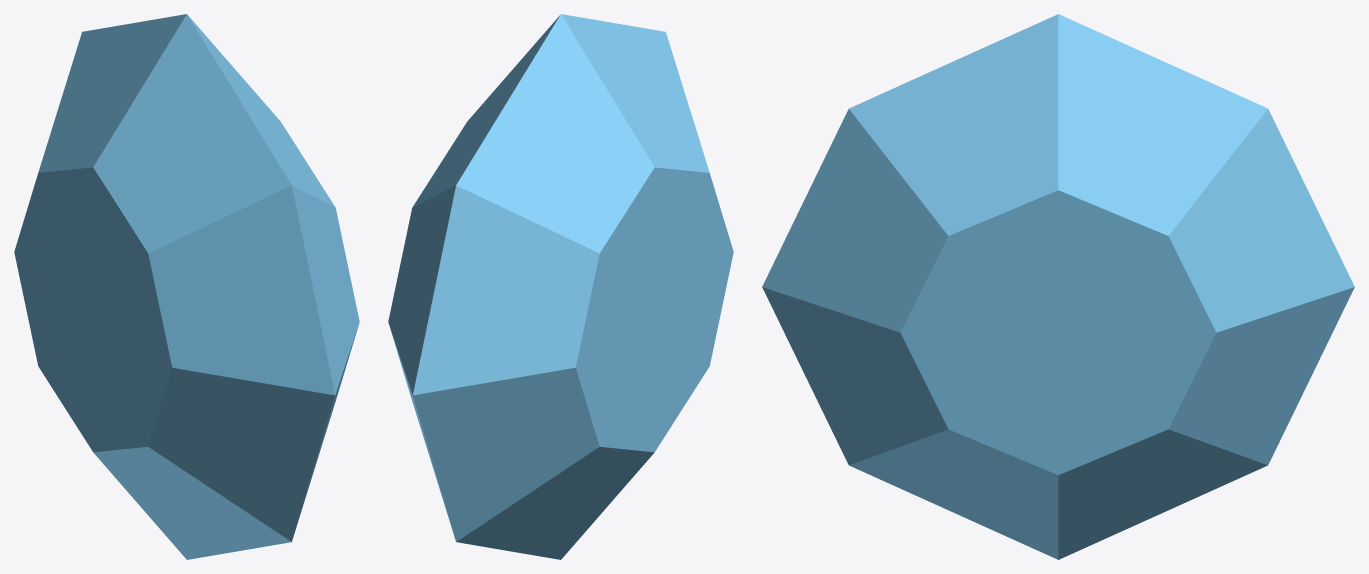
File: Sapphire.fbx
3 views of the same model, side by side, from view 1: azimuth 30°, elevation 25°; view 2: azimuth 150°, elevation 25°; view 3: azimuth 270°, elevation 25° (orthographic).
Visible parts, largest first — view 1: Sapphire; view 2: Sapphire; view 3: Sapphire.
Boxes of the visible parts, x1=… form: Sapphire: x1=14, y1=14, x2=359, y2=559; Sapphire: x1=388, y1=14, x2=733, y2=559; Sapphire: x1=762, y1=14, x2=1354, y2=559.
Size of the model in its own units: 32.75 by 91.13 by 89.67.
